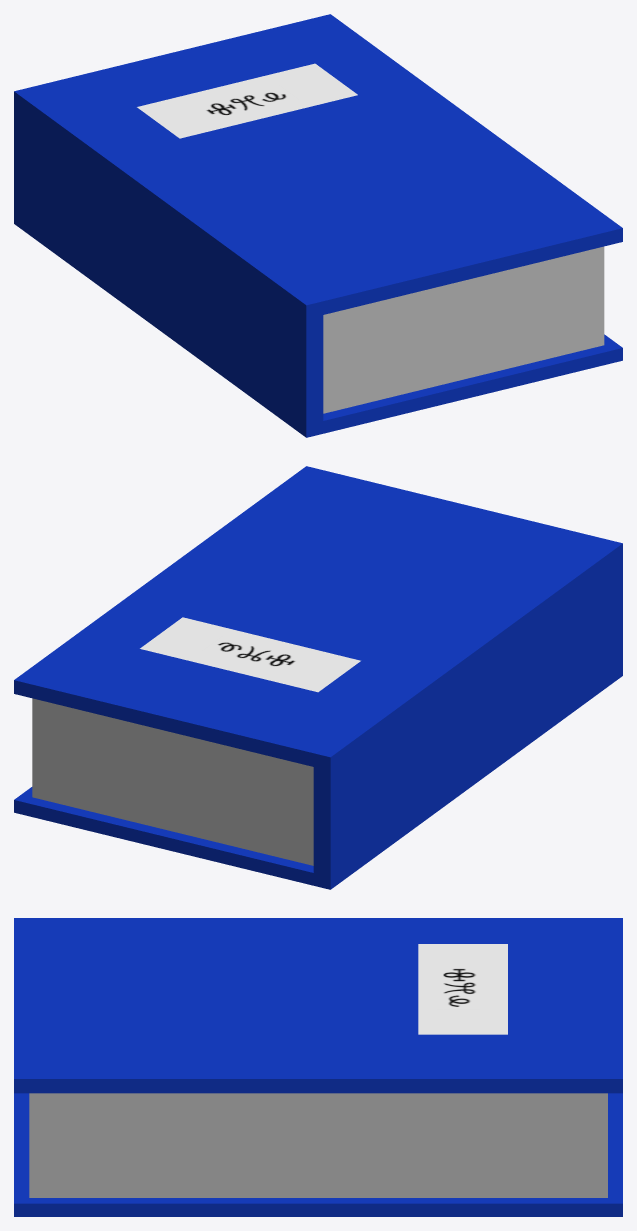
Rendered from book4_blue_vai.obj.
The picture shows the model from 3 angles, top to bottom: view 1: azimuth 30°, elevation 25°; view 2: azimuth 150°, elevation 25°; view 3: azimuth 270°, elevation 25°; orthographic projection. The views are drawn at different scales.
Visible parts, largest first — view 1: Kaft.002_Cube.001, Inhoud.002_Cube.002, Vai; view 2: Kaft.002_Cube.001, Inhoud.002_Cube.002, Vai; view 3: Kaft.002_Cube.001, Inhoud.002_Cube.002, Vai.
Boxes of the visible parts, x1,y1,x2,y2 form: Kaft.002_Cube.001: (14, 14, 622, 437); Inhoud.002_Cube.002: (323, 246, 604, 413); Vai: (137, 63, 357, 138); Kaft.002_Cube.001: (14, 466, 622, 889); Inhoud.002_Cube.002: (32, 698, 313, 865); Vai: (140, 617, 360, 692); Kaft.002_Cube.001: (14, 918, 622, 1216); Inhoud.002_Cube.002: (29, 1093, 607, 1197); Vai: (418, 944, 507, 1034).
Size of the model in its own units: 0.5 by 0.2123 by 0.8.
3 materials, 1 textured.
